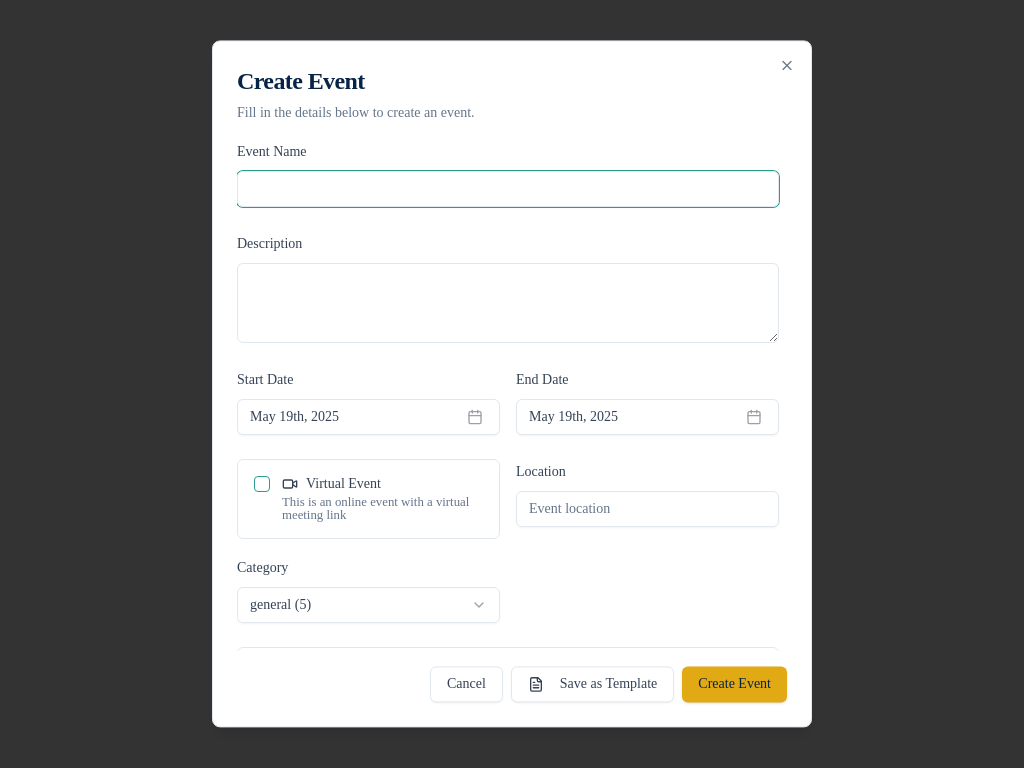
it: Virtual Meeting Integration › shows virtual meeting fields when checkbox is checked
The image size is (1024, 768).
Click the checkbox named "Virtual Event" at (262, 484), box [254,476,270,492]
(page scrolled)
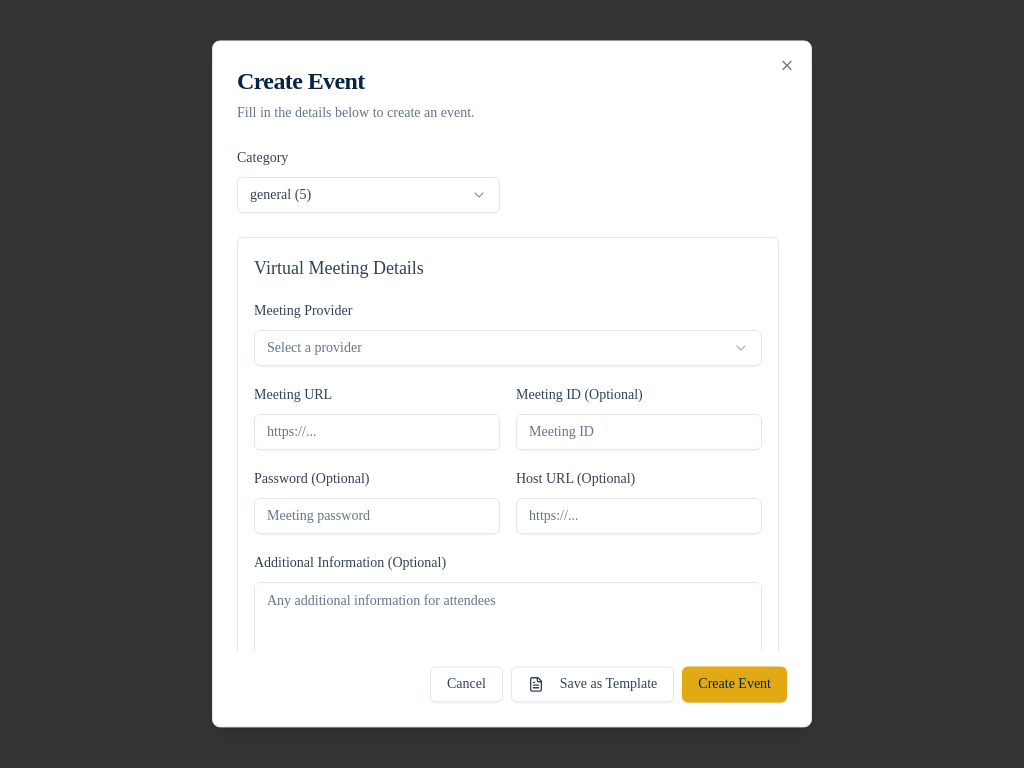
Expected: the heading "Virtual Meeting Details" is shown, [254,258,424,278]
Expected: the text "Meeting Provider" is shown, [254,303,352,318]
Expected: the text "Meeting URL" is shown, [254,387,332,402]
